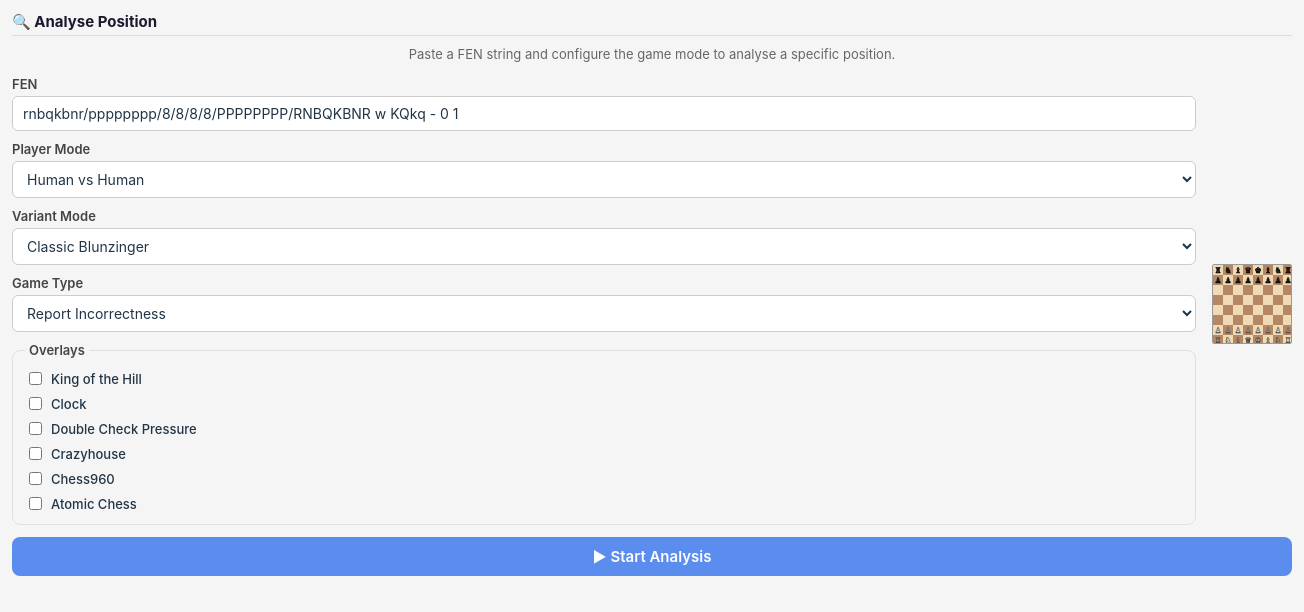
Test: AnalysePositionForm › disables start button for invalid FEN
This screenshot has width=1304, height=612.
Replace the text in the field named "FEN string for analysis" with "invalid": (604, 114) [12,96,1196,131]
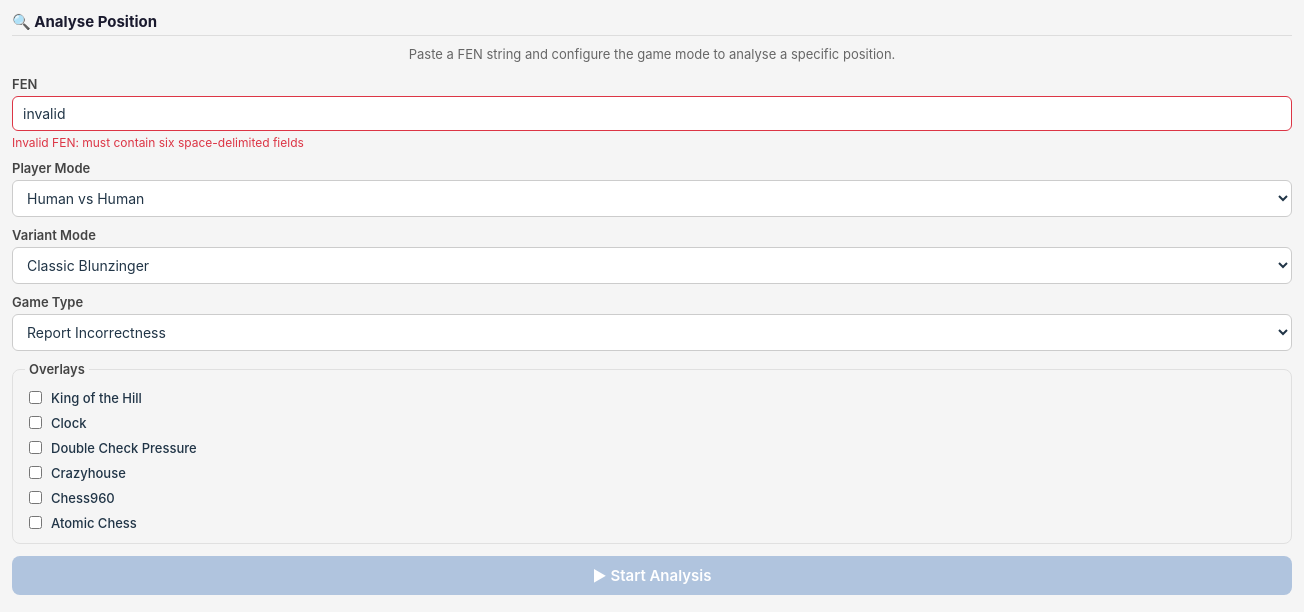
Check: the button "▶ Start Analysis" is disabled, box [12,556,1292,595]
